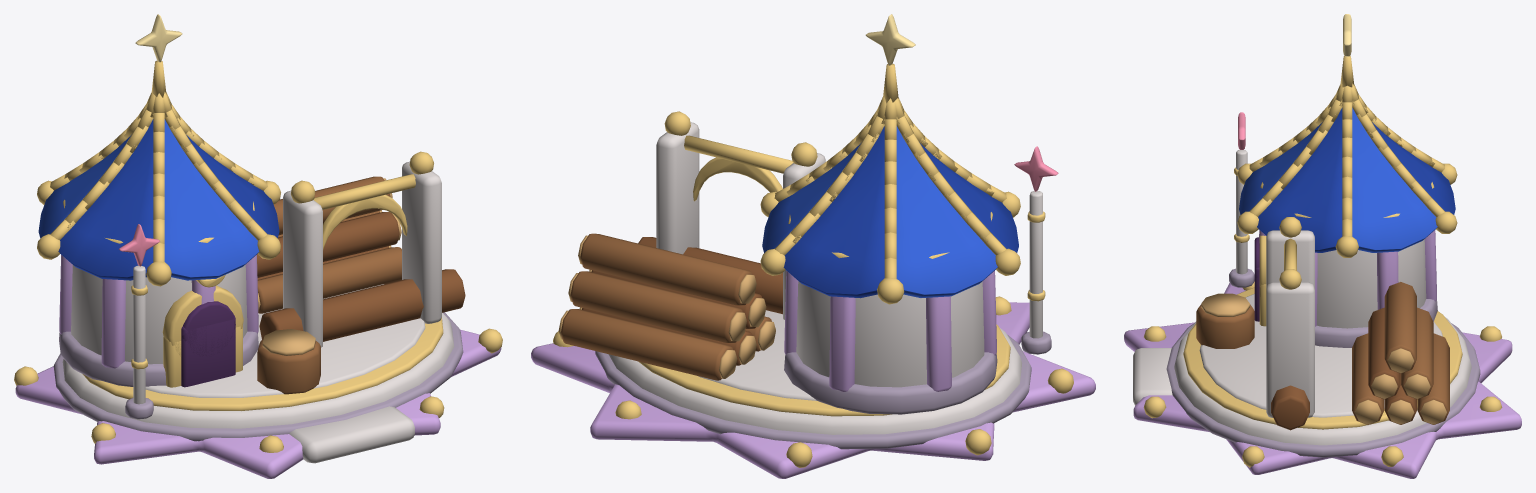
Rendered from Lumberyard.glb.
3 views of the same model, side by side, from view 1: azimuth 30°, elevation 25°; view 2: azimuth 150°, elevation 25°; view 3: azimuth 270°, elevation 25° (orthographic). The views are drawn at different scales.
Visible parts, largest first — view 1: Lumberyard; view 2: Lumberyard; view 3: Lumberyard.
Part boxes in pixels (x1,y1,x2,y2): Lumberyard: [14, 14, 502, 478]; Lumberyard: [531, 14, 1095, 478]; Lumberyard: [1124, 14, 1521, 478].
Size of the model in its own units: 2.74 by 2.29 by 2.45.
